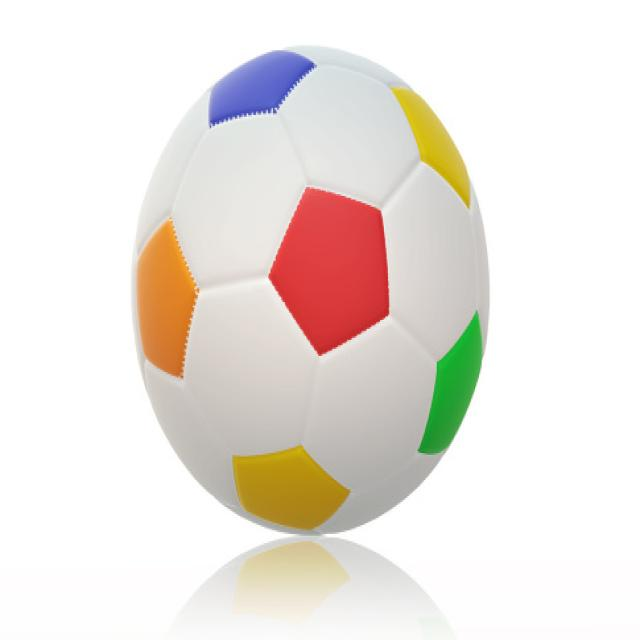soccer ball: (131, 45, 491, 536)
